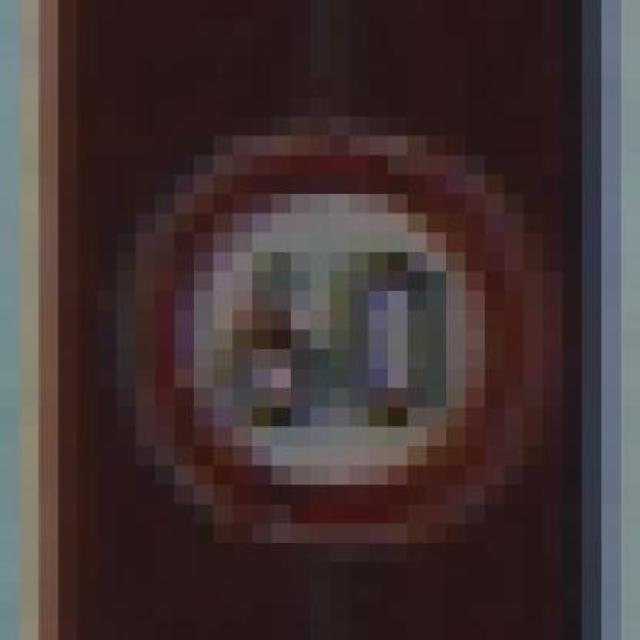forb_speed_over_60: (152, 139, 521, 541)
